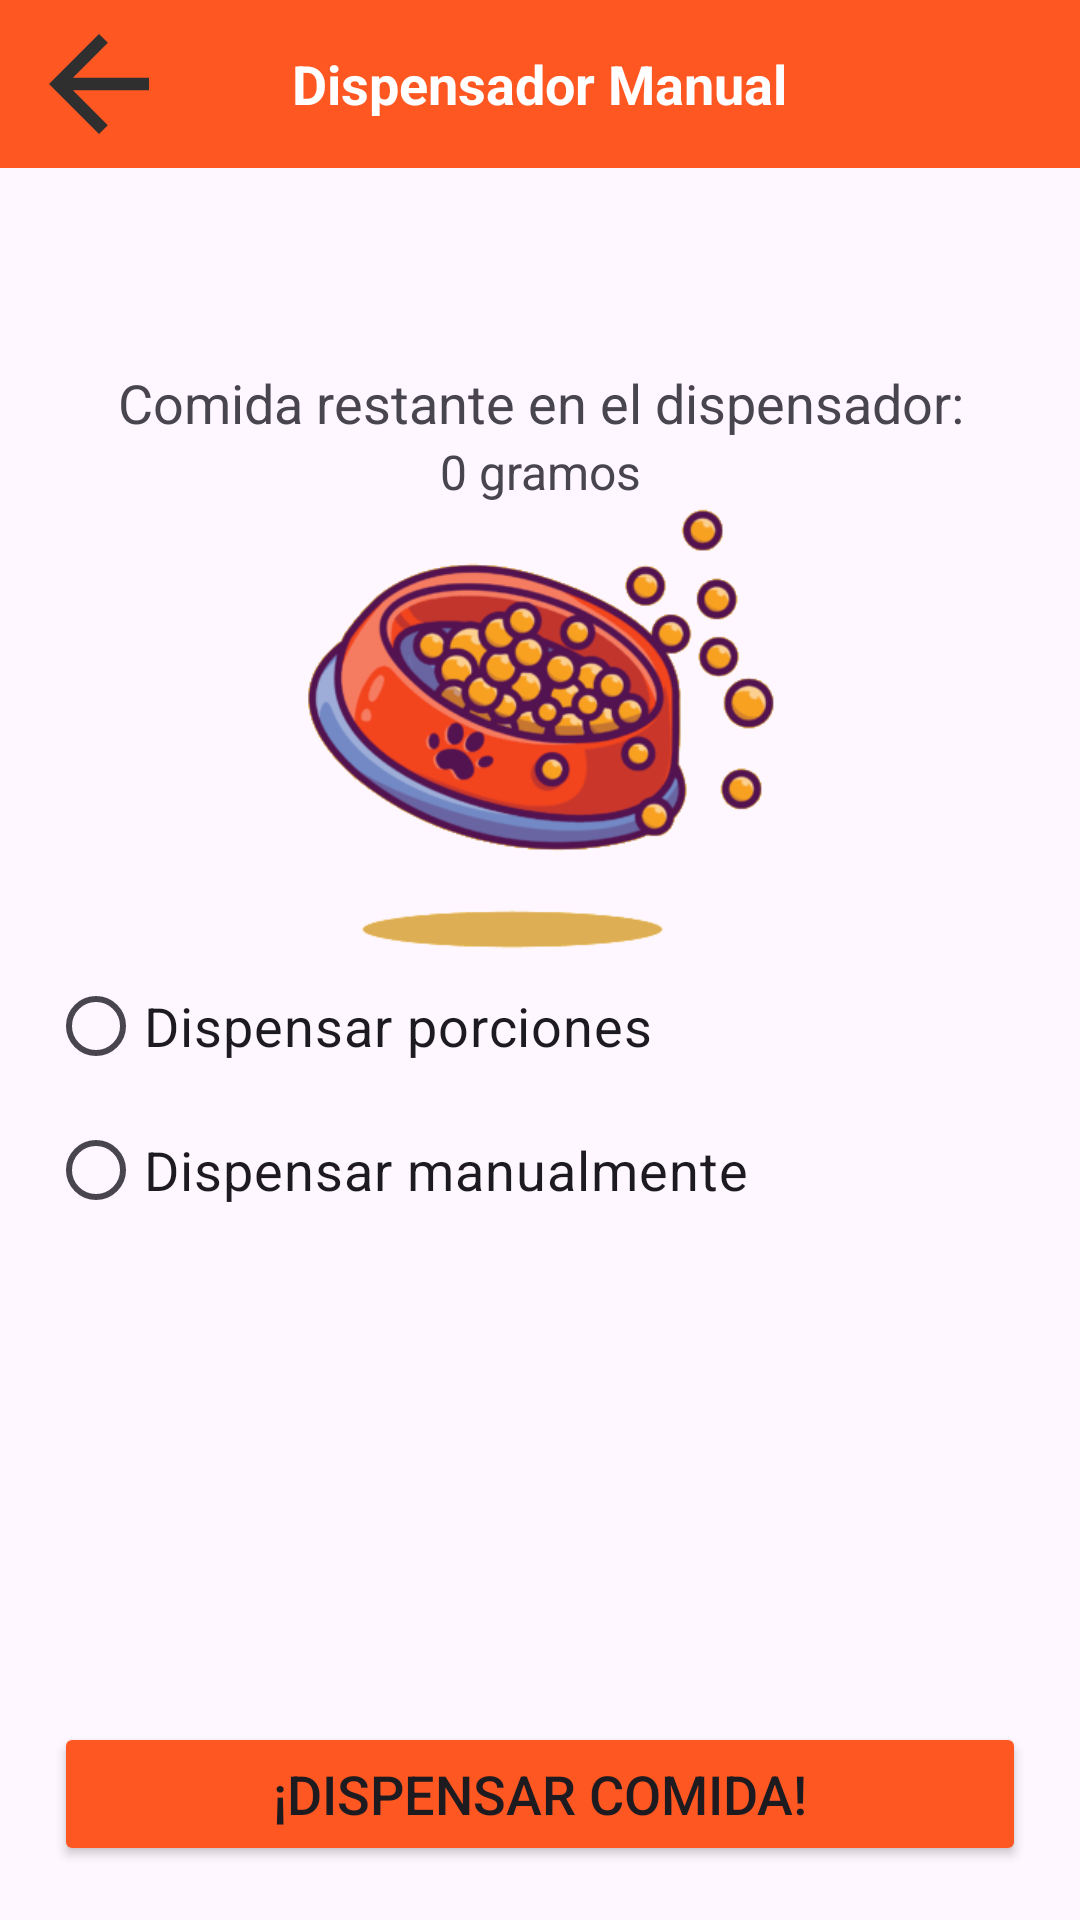

Where to tap for icons on this 1080w x 1920h app screen, as [x,y]:
back arrow: [99,84]
